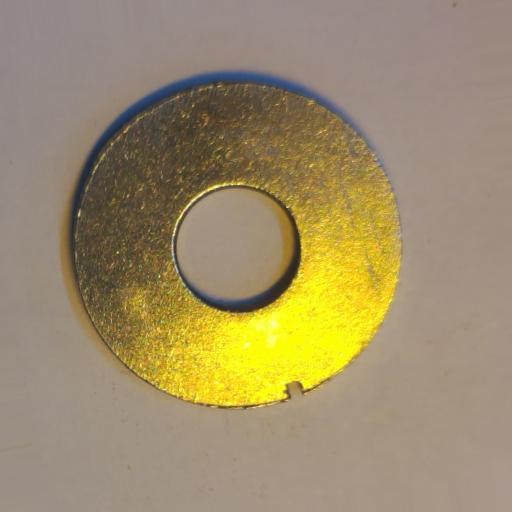burr: (284, 380, 305, 401)
